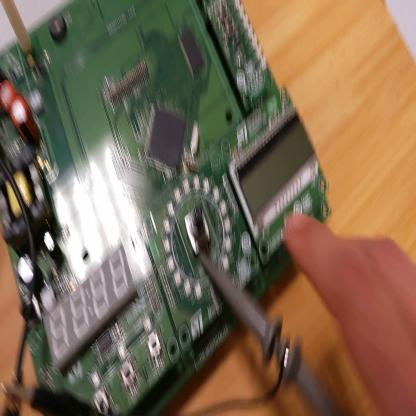hand: (283, 213, 416, 416)
low voltage board: (1, 3, 330, 415)
oscilloscope probe tip: (197, 241, 360, 416)
working area: (2, 4, 416, 413)
